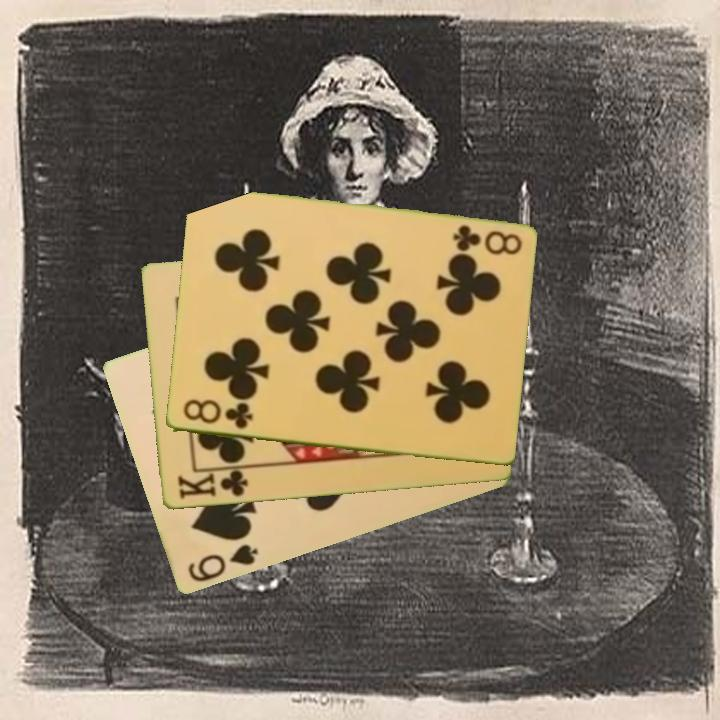6s: (184, 541, 261, 586)
8c: (179, 396, 255, 433), (449, 222, 525, 256)
Kc: (174, 464, 252, 503)
